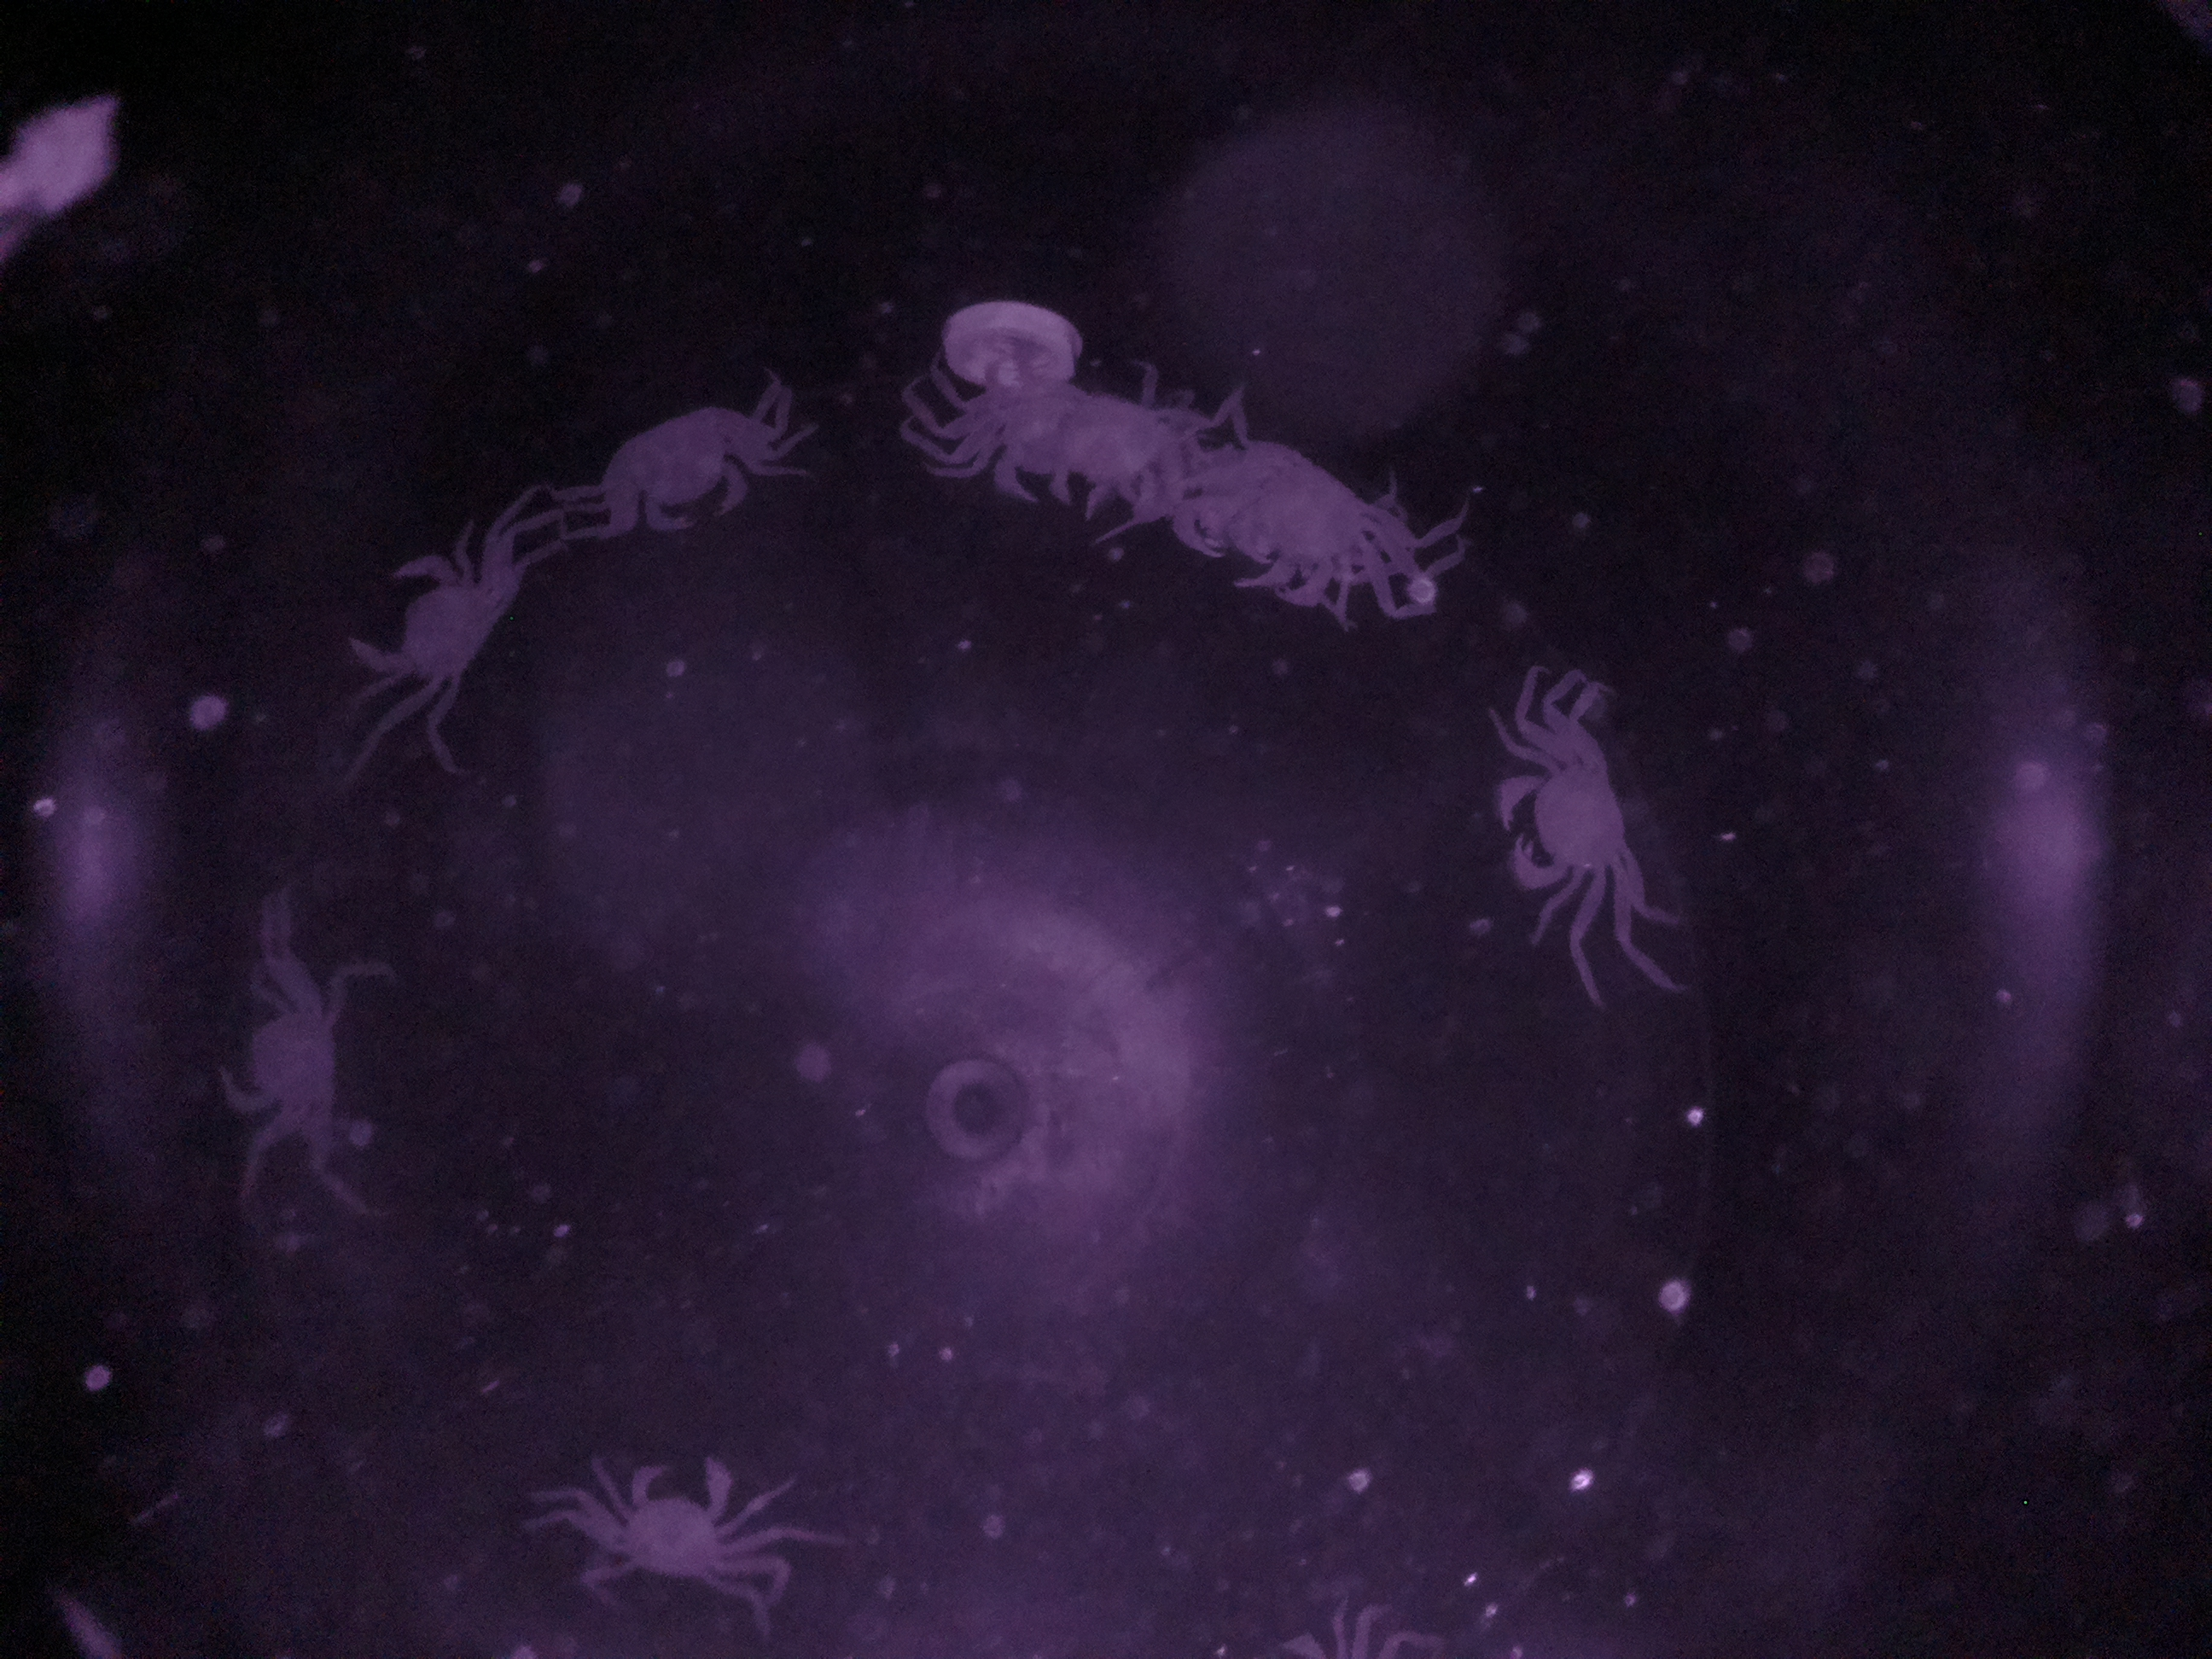Crab: (1479, 714, 1663, 941), (336, 538, 531, 734), (566, 1438, 766, 1622), (571, 399, 805, 552)
